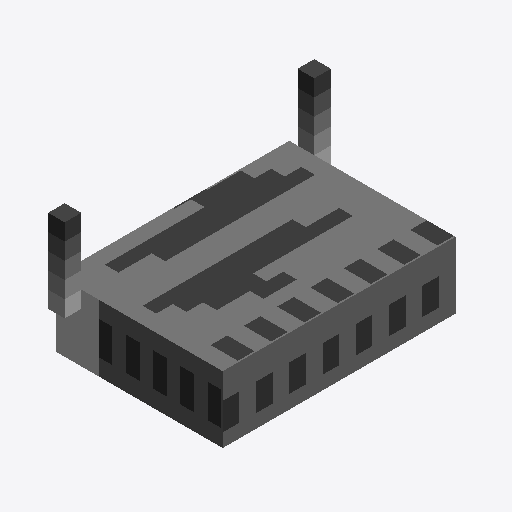
A Minecraft block model of 3 cuboids, rendered isometrically (azimuth 45°, elevation 35.3°) with the resource pack's own textures.
Parts seen in each view (by area): body, antenna (×2).
Part boxes in pixels (x1,y1,x2,y2): body: (56,141,455,447); antenna (×2): (48,59,330,317).
Size of the model in its own units: 16 by 8 by 10.